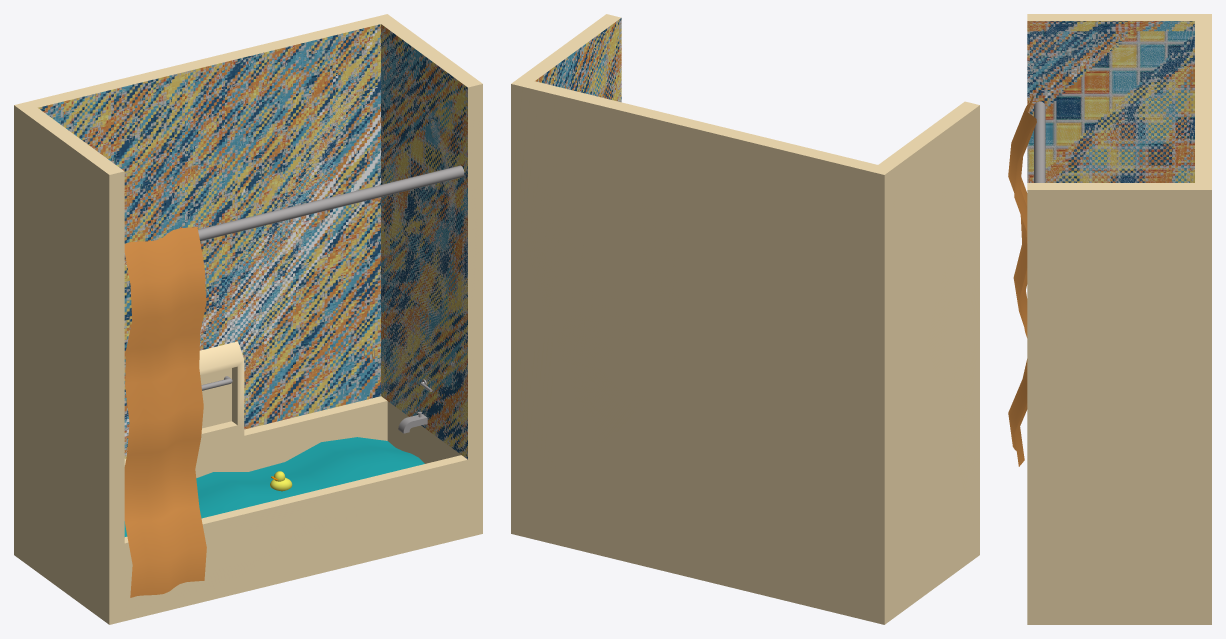
File: bathtub.fbx
3 renders of one model, left to right at view 1: azimuth 30°, elevation 25°; view 2: azimuth 150°, elevation 25°; view 3: azimuth 270°, elevation 25°, orthographic. The views are drawn at different scales.
Parts seen in each view (by area): view 1: Material1.016, Material1.003, Material1.014, Material1.002, Material1.001, _gltfNode_54, _gltfNode_9, Material1.004, Material1.008; view 2: Material1.016, Material1.014; view 3: Material1.016, Material1.015, _gltfNode_63, Material1.002, Material1.004.
Part boxes in pixels (left/top/right/bottom): Material1.016: left=14, top=14, right=482, bottom=624; Material1.003: left=38, top=24, right=380, bottom=458; Material1.014: left=381, top=24, right=467, bottom=459; Material1.002: left=124, top=227, right=206, bottom=597; Material1.001: left=124, top=437, right=424, bottom=536; _gltfNode_54: left=381, top=26, right=467, bottom=458; _gltfNode_9: left=124, top=43, right=373, bottom=457; Material1.004: left=124, top=165, right=464, bottom=259; Material1.008: left=200, top=366, right=237, bottom=433; Material1.016: left=511, top=14, right=979, bottom=624; Material1.014: left=535, top=18, right=621, bottom=101; Material1.016: left=1027, top=14, right=1211, bottom=624; Material1.015: left=1027, top=21, right=1194, bottom=182; _gltfNode_63: left=1027, top=21, right=1194, bottom=182; Material1.002: left=1008, top=95, right=1036, bottom=466; Material1.004: left=1034, top=101, right=1045, bottom=182.
Size of the model in its own units: 2.18 by 2.51 by 1.06.
Materials: 10 (3 with a texture image).
